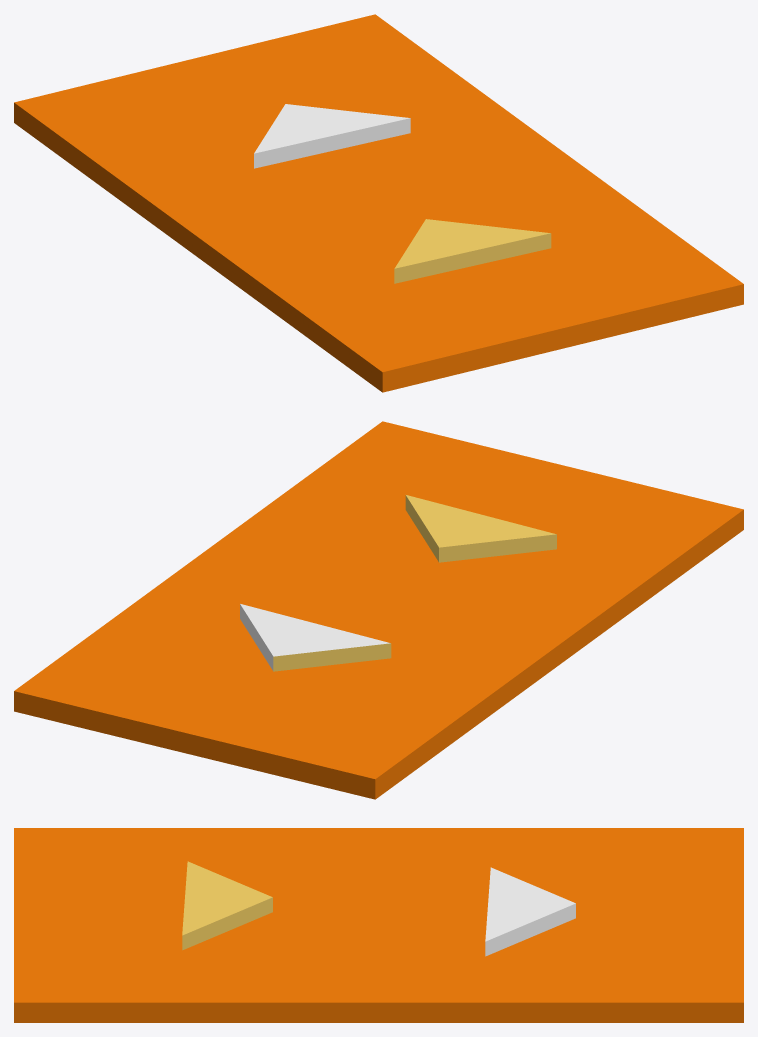
The model's file is SpeedBoost.fbx.
3 views of the same model, one above another, from view 1: azimuth 30°, elevation 25°; view 2: azimuth 150°, elevation 25°; view 3: azimuth 270°, elevation 25° (orthographic).
Visible parts, largest first — view 1: Model; view 2: Model; view 3: Model.
Part boxes in pixels (<box>): Model: <box>14,14,743,392</box>; Model: <box>14,421,743,799</box>; Model: <box>14,828,743,1022</box>.
Bounding box in the file's own units: 102 × 9.56 × 180.
